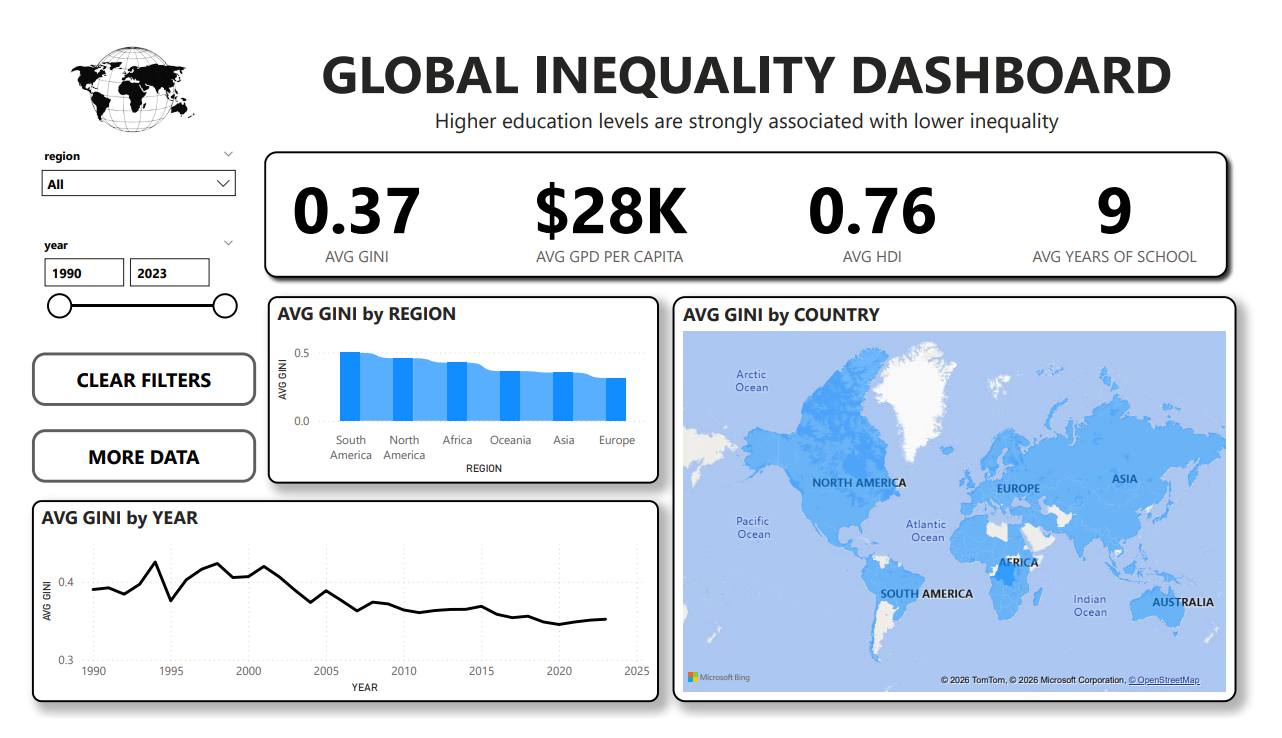

The page's visual inventory and layout, read from the dashboard file:
{"tool":"powerbi","page":{"name":"DASHBOARD","canvas":[1280,720],"ordinal":0},"visuals":[{"type":"shape","box":[243.3,126.7,1010,148.3],"z":0},{"type":"card","fields":{"Values":["Avg(global-inequality-cleaned.gini)"]},"box":[266.7,145,160,113.3],"z":1000},{"type":"card","fields":{"Values":["Avg(global-inequality-cleaned.gdp_per_capita)"]},"box":[521.7,143.3,171.7,116.7],"z":2000},{"type":"card","fields":{"Values":["Avg(global-inequality-cleaned.idh)"]},"box":[793.3,145,170,113.3],"z":3000},{"type":"card","fields":{"Values":["Avg(global-inequality-cleaned.education)"]},"box":[1030,148.3,195,106.7],"z":4000},{"type":"lineChart","fields":{"Category":["global-inequality-cleaned.year"],"Y":["Avg(global-inequality-cleaned.gini)"]},"box":[11.7,495,646.7,208.3],"z":5000},{"type":"slicer","fields":{"Values":["global-inequality-cleaned.year"]},"box":[11.7,218.3,220,111.7],"z":6000},{"type":"slicer","fields":{"Values":["global-inequality-cleaned.region"]},"box":[11.7,126.7,220,91.7],"z":7000},{"type":"image","box":[0,0,231.7,141.7],"z":8000},{"type":"filledMap","fields":{"Category":["global-inequality-cleaned.country"]},"box":[671.7,285,581.7,418.3],"z":9000},{"type":"textbox","box":[255,13.3,986.7,113.3],"z":10000},{"type":"ribbonChart","fields":{"Y":["Avg(global-inequality-cleaned.gini)"],"Category":["global-inequality-cleaned.region"]},"box":[255,285,403.3,193.3],"z":11000},{"type":"actionButton","box":[11.7,343.3,231.7,55],"z":12000},{"type":"actionButton","box":[11.7,421.7,231.7,55],"z":13000}]}

Visuals, with their boxes in screenshot pixels (x1, y1, x2, y2), scaled from the page's 1280x720 canvas onto the 1282x738 screenshot:
shape: (x1=244, y1=130, x2=1255, y2=282)
card - Avg(global-inequality-cleaned.gini): (x1=267, y1=149, x2=427, y2=265)
card - Avg(global-inequality-cleaned.gdp_per_capita): (x1=523, y1=147, x2=694, y2=266)
card - Avg(global-inequality-cleaned.idh): (x1=795, y1=149, x2=965, y2=265)
card - Avg(global-inequality-cleaned.education): (x1=1032, y1=152, x2=1227, y2=261)
lineChart - global-inequality-cleaned.year x Avg(global-inequality-cleaned.gini): (x1=12, y1=507, x2=659, y2=721)
slicer - global-inequality-cleaned.year: (x1=12, y1=224, x2=232, y2=338)
slicer - global-inequality-cleaned.region: (x1=12, y1=130, x2=232, y2=224)
image: (x1=0, y1=0, x2=232, y2=145)
filledMap - global-inequality-cleaned.country: (x1=673, y1=292, x2=1255, y2=721)
textbox: (x1=255, y1=14, x2=1244, y2=130)
ribbonChart - Avg(global-inequality-cleaned.gini) x global-inequality-cleaned.region: (x1=255, y1=292, x2=659, y2=490)
actionButton: (x1=12, y1=352, x2=244, y2=408)
actionButton: (x1=12, y1=432, x2=244, y2=489)
